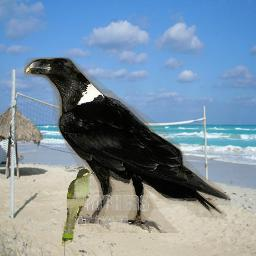Crow: (24, 57, 231, 233)
Cuckoo: (61, 168, 96, 246)
